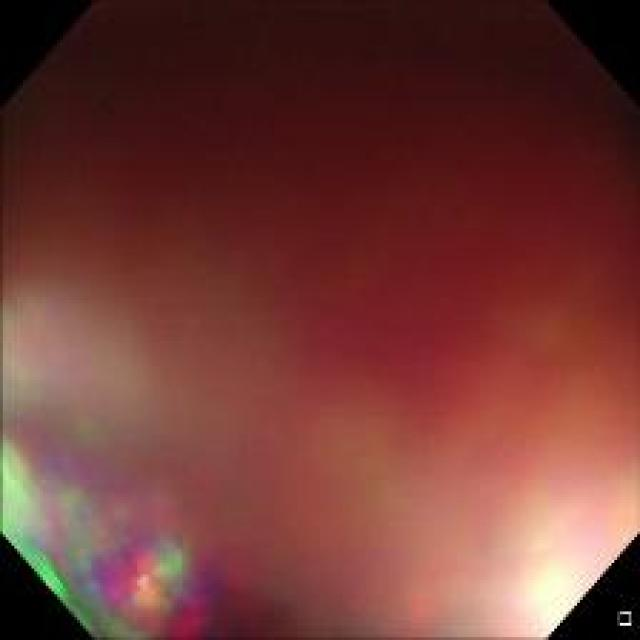color misalignment: (6, 10, 630, 629), (6, 389, 248, 626)
saturation: (469, 515, 619, 631)
